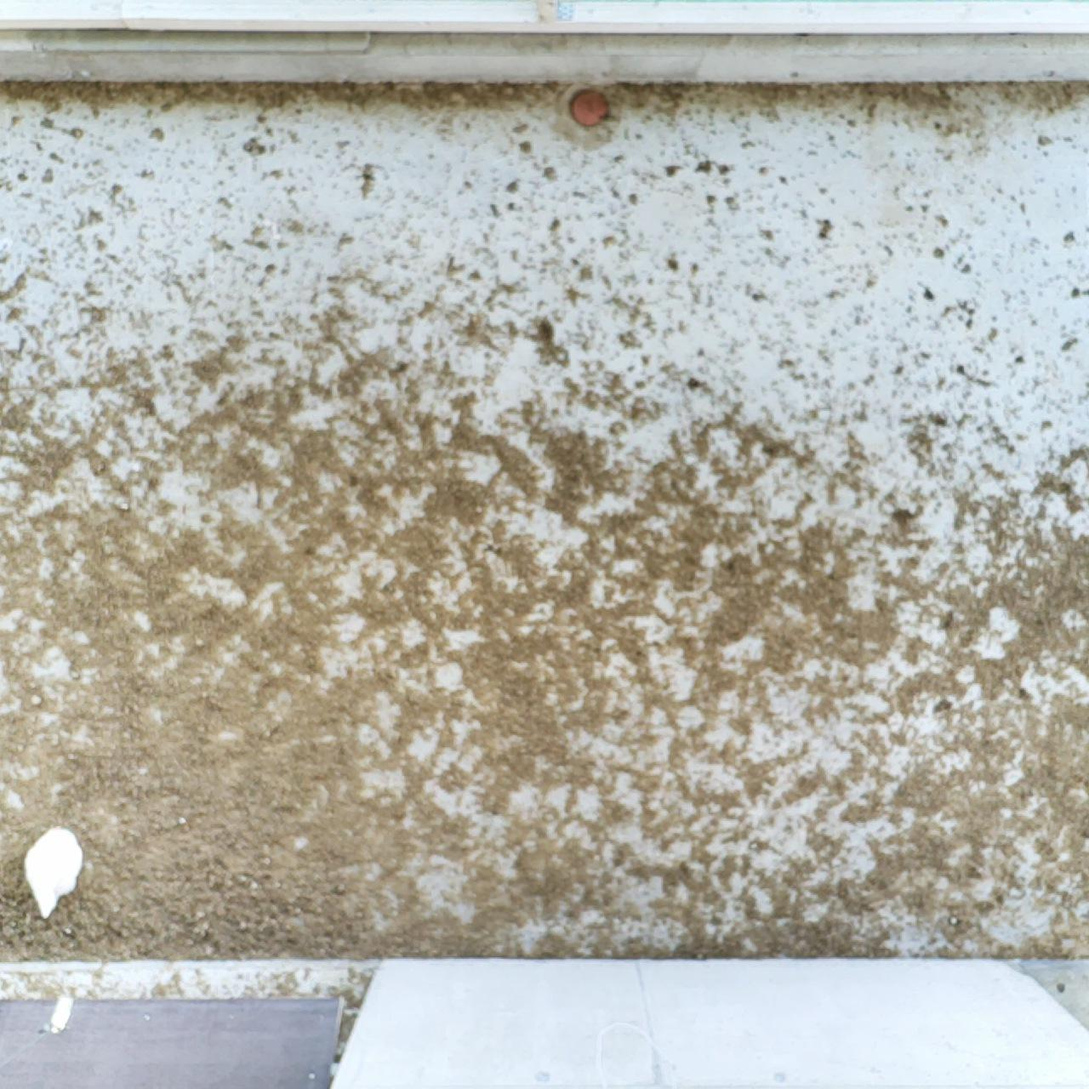chicken: (21, 824, 87, 920)
